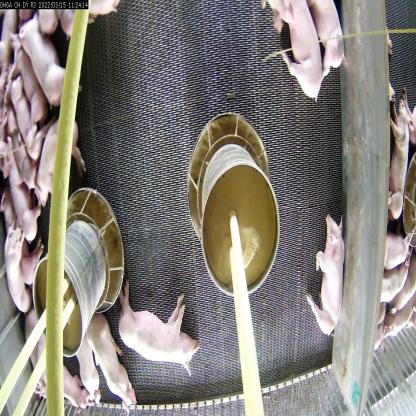Pig: (114, 274, 204, 380), (29, 106, 90, 208), (17, 10, 81, 107), (270, 0, 324, 109), (84, 307, 138, 415), (305, 205, 346, 338), (34, 322, 92, 415), (0, 180, 49, 284), (2, 134, 46, 247), (3, 60, 45, 161), (6, 26, 50, 122), (307, 0, 349, 89), (4, 222, 35, 313), (388, 90, 407, 226), (377, 249, 412, 306), (384, 221, 415, 270)
